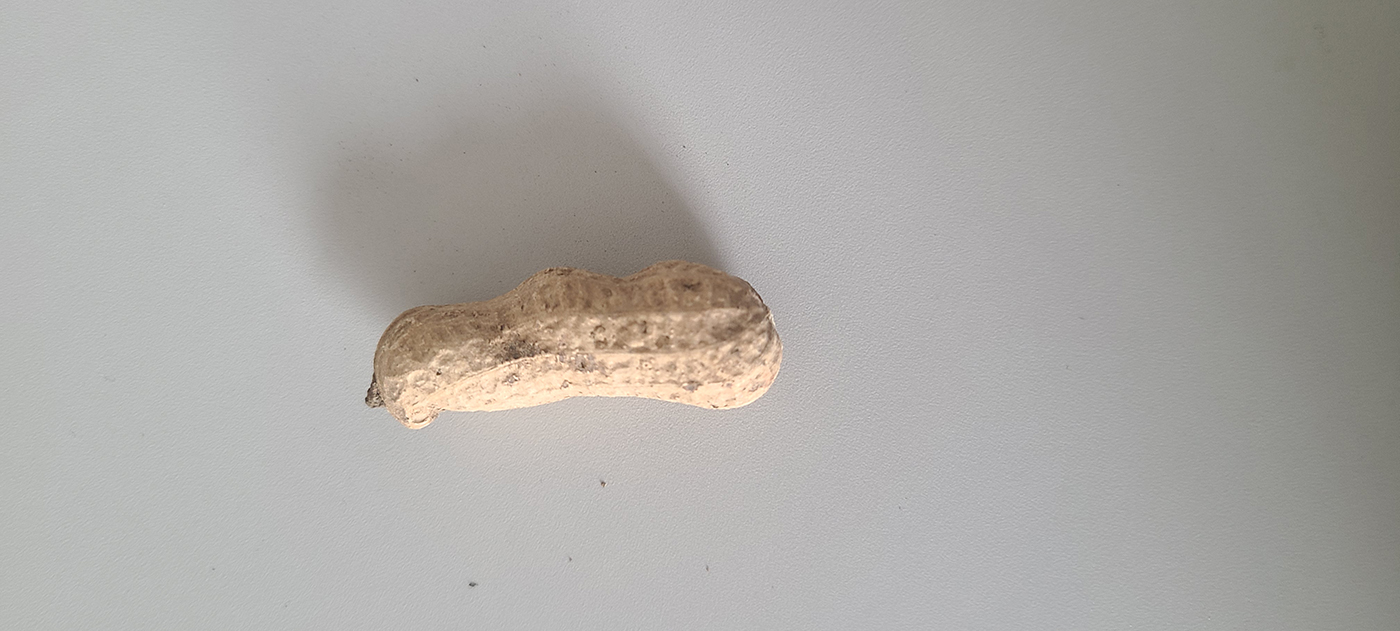h: (366, 259, 786, 437)
